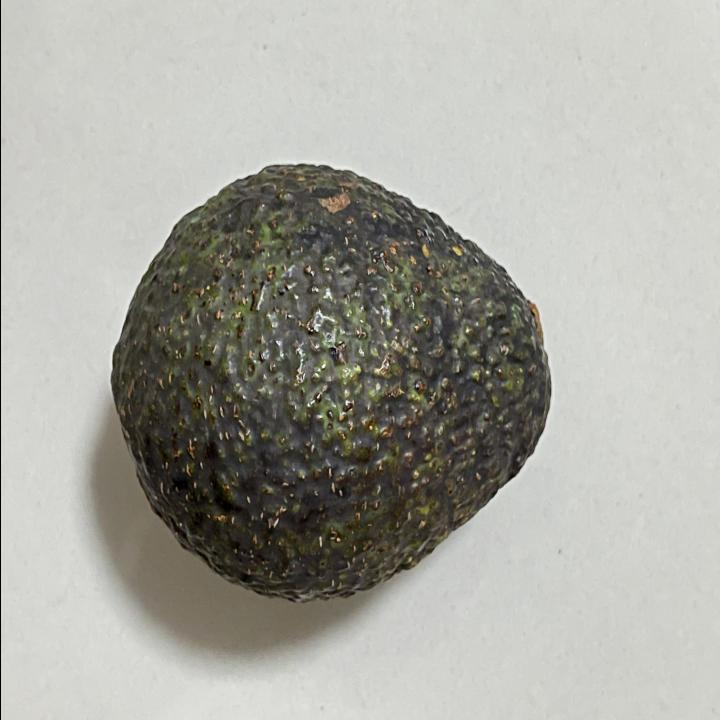Level1: (102, 142, 574, 622)
